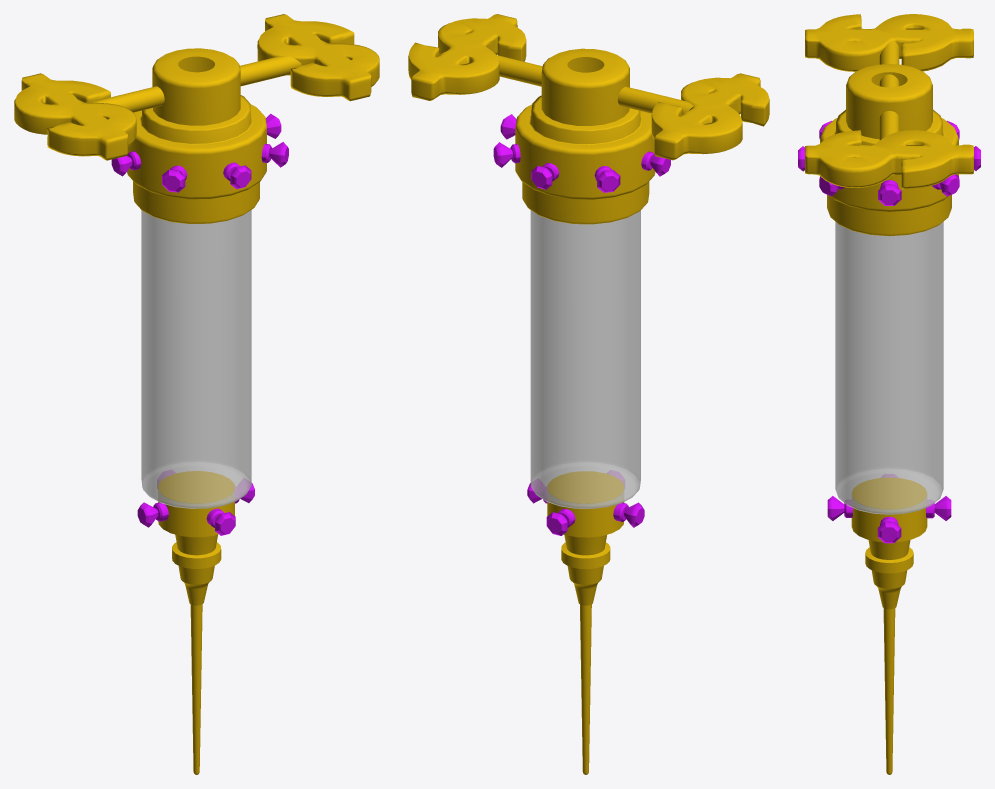
Rendered from pimp_barrel.fbx.
The picture shows the model from 3 angles, left to right: view 1: azimuth 30°, elevation 25°; view 2: azimuth 150°, elevation 25°; view 3: azimuth 270°, elevation 25°; orthographic projection. The views are drawn at different scales.
Visible parts, largest first — view 1: pimp_barrel; view 2: pimp_barrel; view 3: pimp_barrel.
Boxes of the visible parts, left/top/right/bottom form: pimp_barrel: left=14, top=14, right=379, bottom=774; pimp_barrel: left=408, top=14, right=769, bottom=774; pimp_barrel: left=798, top=14, right=980, bottom=774.
Size of the model in its own units: 0.4589 by 0.9471 by 0.226.
